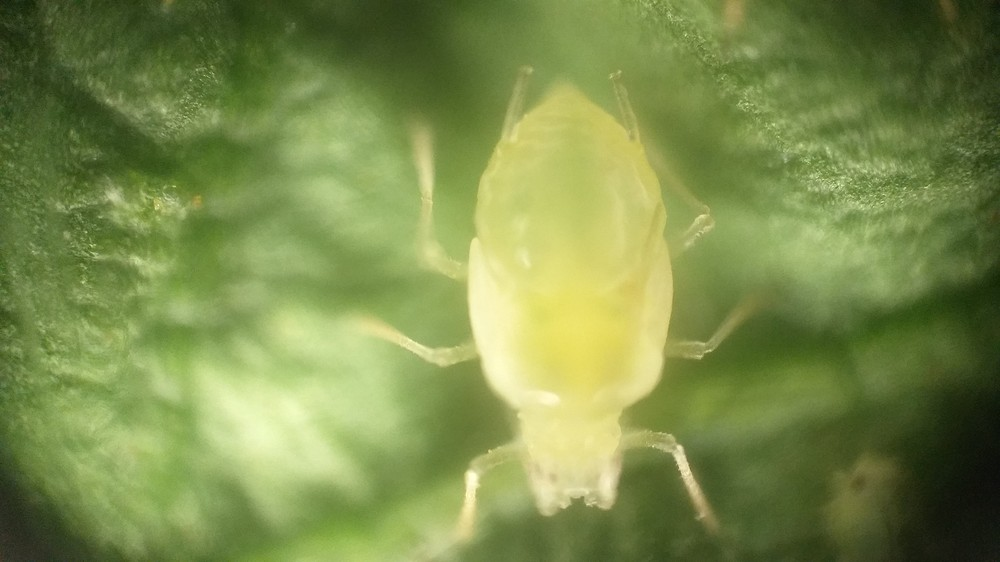Pulgon: (363, 45, 760, 549)
